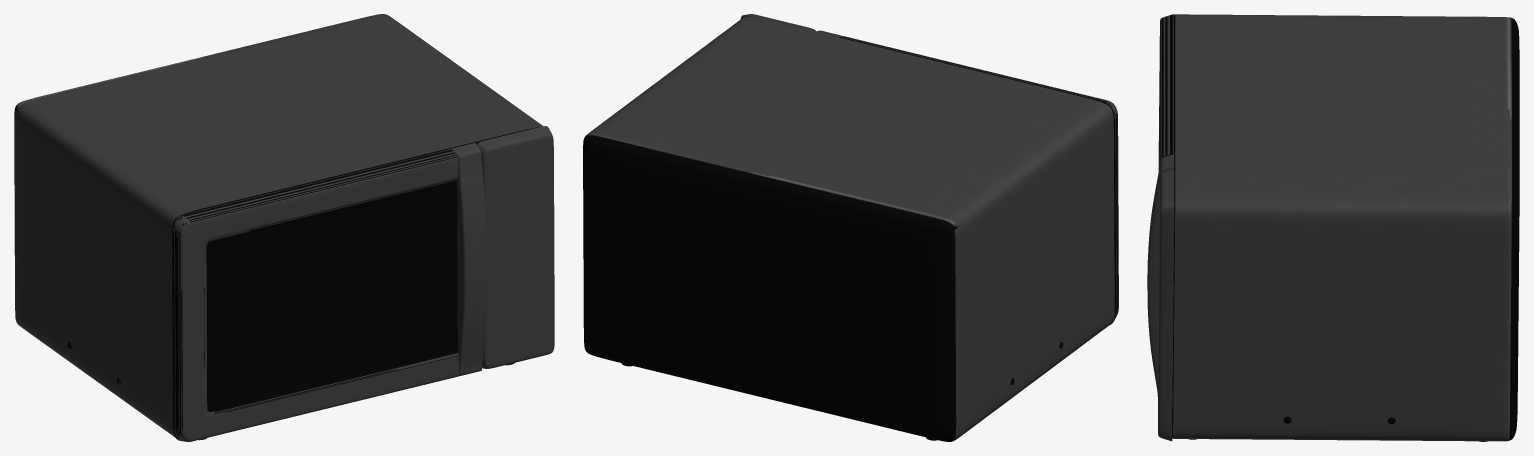
File: microondas1.obj
3 views of the same model, side by side, from view 1: azimuth 30°, elevation 25°; view 2: azimuth 150°, elevation 25°; view 3: azimuth 270°, elevation 25° (orthographic). The views are drawn at different scales.
Parts seen in each view (by area): view 1: 10122_Microwave_Oven_v1_L3; view 2: 10122_Microwave_Oven_v1_L3; view 3: 10122_Microwave_Oven_v1_L3.
Boxes of the visible parts, x1,y1,x2,y2 form: 10122_Microwave_Oven_v1_L3: (14, 14, 554, 441); 10122_Microwave_Oven_v1_L3: (583, 14, 1118, 441); 10122_Microwave_Oven_v1_L3: (1147, 14, 1519, 441).
Size of the model in its own units: 1.2 by 0.7157 by 0.9585.
